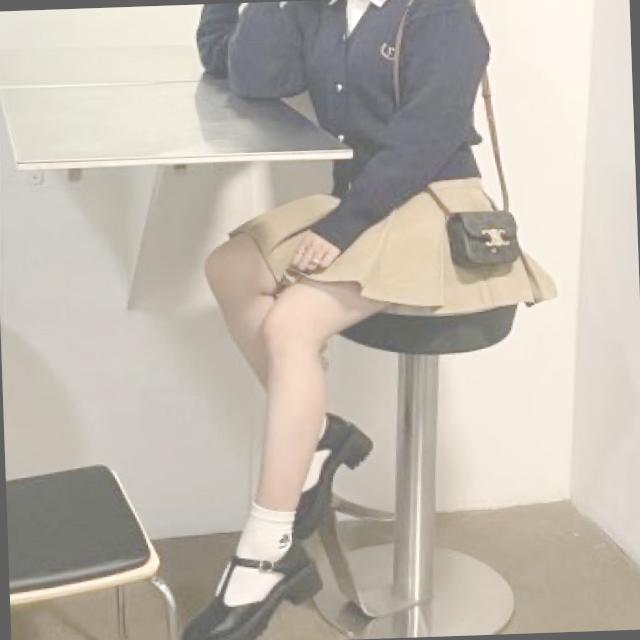cardigan: (220, 0, 495, 257)
skirt: (228, 170, 559, 314)
